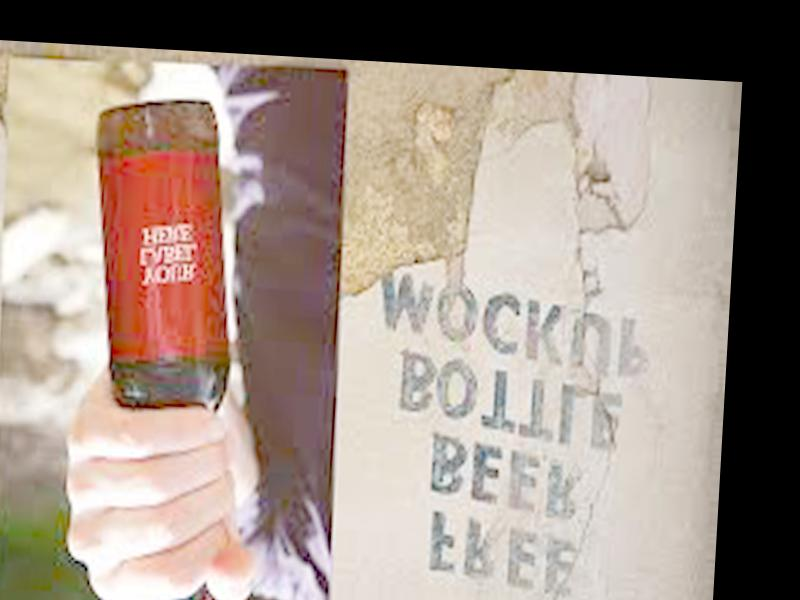Beer: (68, 94, 240, 600)
